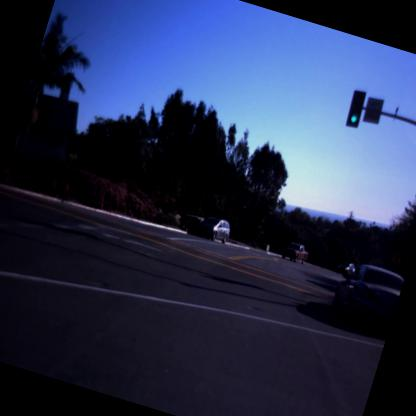trafficlight: (340, 85, 370, 132)
